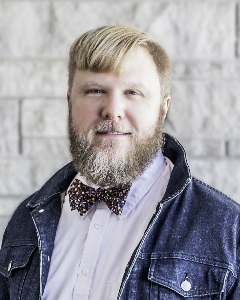person: (2, 26, 240, 300)
